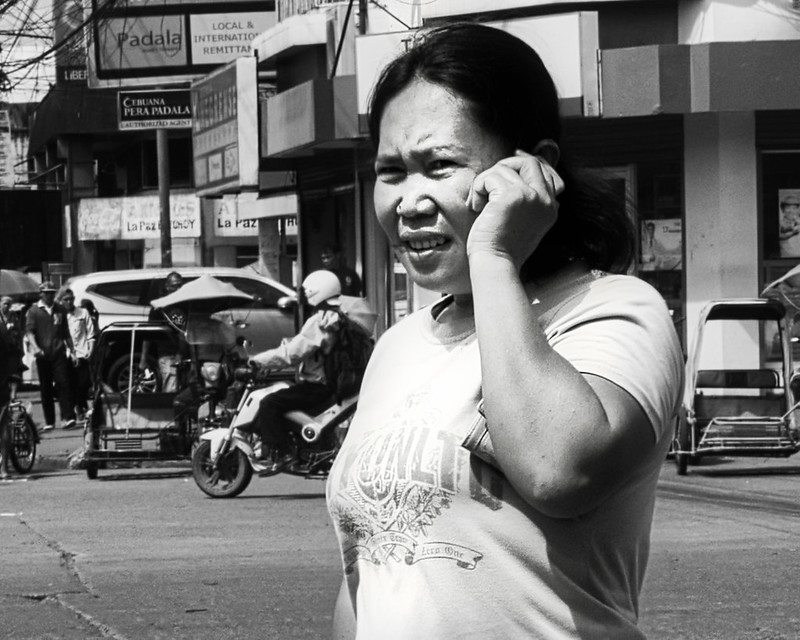phone: (476, 141, 562, 253)
talk: (365, 120, 574, 287)
